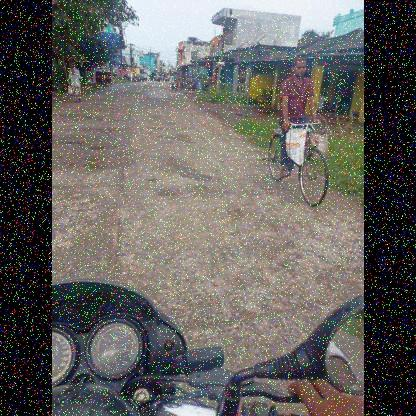Bicycle: (248, 99, 342, 214)
